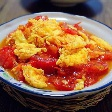fanqiechaojidan: (1, 15, 112, 92)
